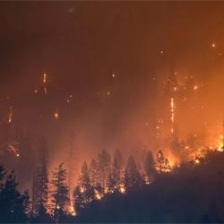fire: (36, 69, 223, 219)
